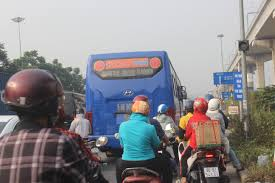Bien-so: (204, 167, 220, 179)
